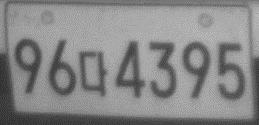3: (148, 40, 178, 100)
4: (112, 40, 146, 97)
5: (217, 42, 244, 100)
6: (48, 38, 77, 95)
9: (15, 37, 41, 96), (183, 43, 210, 99)
다: (79, 50, 108, 96)
